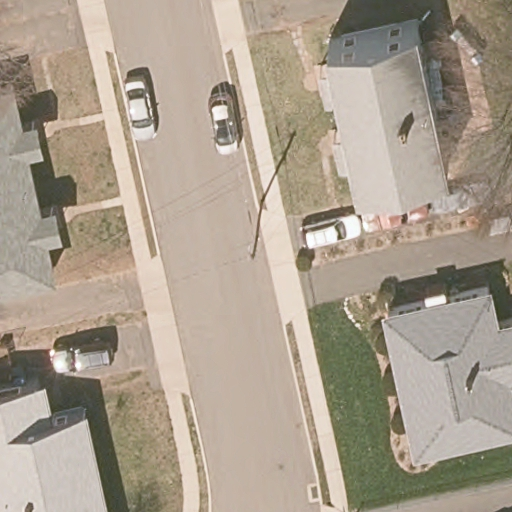DT: (245, 196, 265, 262)
